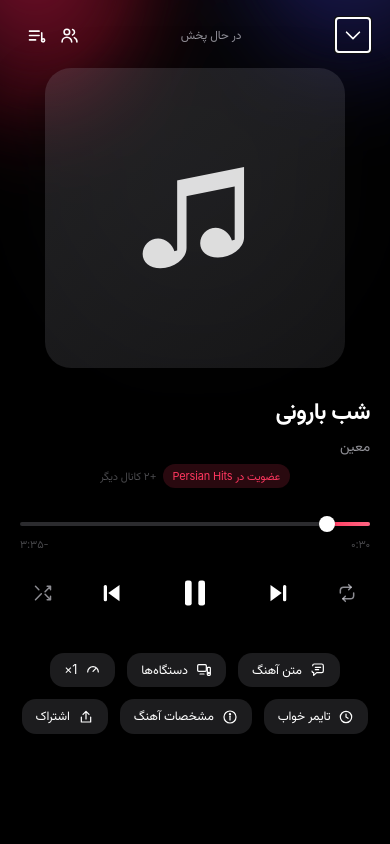
Test: the queue sheet › shows the manual queue above what the source plays next
Click the button named "صف پخش". click: (36, 35)
box: [20, 18, 53, 52]
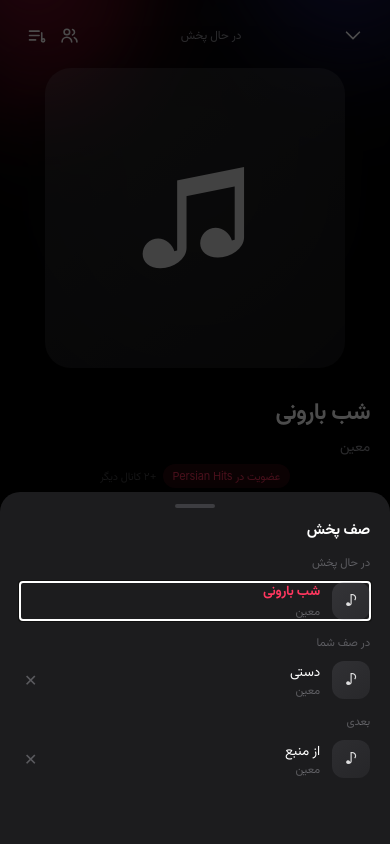
Result: the text "در صف شما" is shown at [316, 634, 370, 648]
Result: the text "دستی" is shown at [290, 661, 320, 681]
Result: the text "از منبع" is shown at [285, 740, 320, 761]
